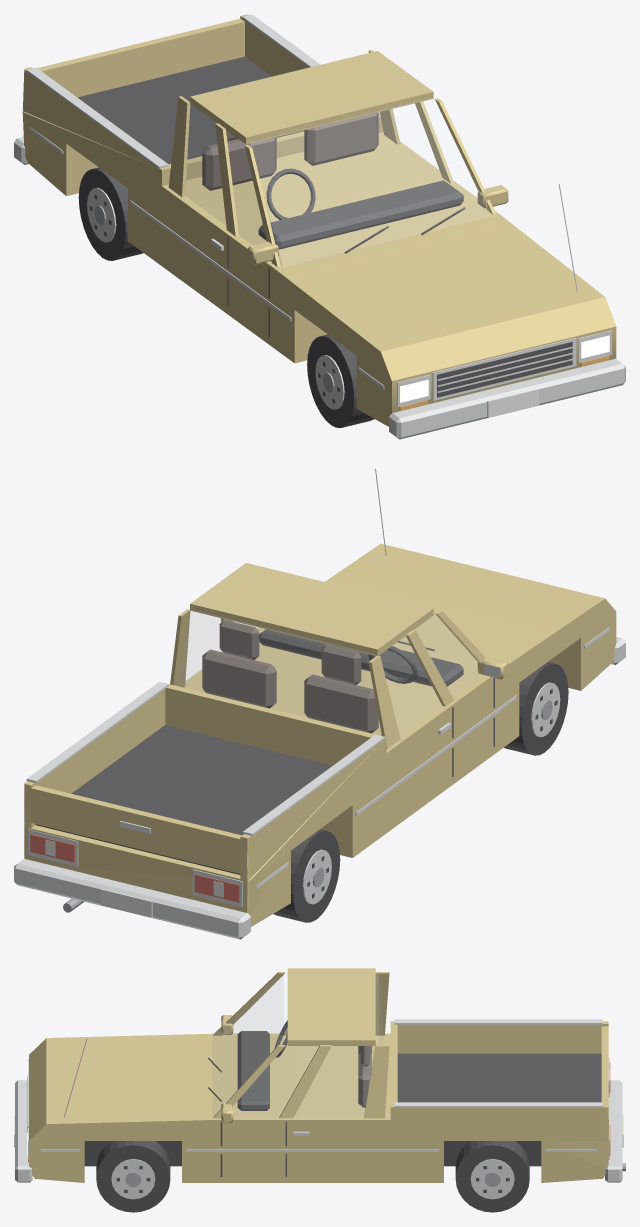
The model's file is car_pickup_y.glb.
The picture shows the model from 3 angles, top to bottom: view 1: azimuth 30°, elevation 25°; view 2: azimuth 150°, elevation 25°; view 3: azimuth 270°, elevation 25°; orthographic projection. The views are drawn at different scales.
Parts seen in each view (by area): view 1: car_pickup_y_car_y, car_pickup_y_glass, car_pickup_y_dark, car_pickup_y_chrome, car_pickup_y_rubber, car_pickup_y_vinyl, car_pickup_y_lamp_glass, car_pickup_y_paint_w; view 2: car_pickup_y_car_y, car_pickup_y_glass, car_pickup_y_dark, car_pickup_y_chrome, car_pickup_y_vinyl, car_pickup_y_rubber, car_pickup_y_neon_r, car_pickup_y_paint_w; view 3: car_pickup_y_car_y, car_pickup_y_dark, car_pickup_y_glass, car_pickup_y_chrome, car_pickup_y_rubber, car_pickup_y_vinyl, car_pickup_y_steel.
Part boxes in pixels (x1,y1,x2,y2): car_pickup_y_car_y: [22, 14, 616, 426]; car_pickup_y_glass: [186, 98, 490, 266]; car_pickup_y_dark: [77, 56, 572, 403]; car_pickup_y_chrome: [14, 14, 625, 439]; car_pickup_y_rubber: [78, 167, 374, 427]; car_pickup_y_vinyl: [202, 112, 378, 190]; car_pickup_y_lamp_glass: [400, 335, 609, 402]; car_pickup_y_paint_w: [487, 389, 539, 417]; car_pickup_y_car_y: [24, 543, 616, 926]; car_pickup_y_glass: [177, 610, 481, 734]; car_pickup_y_dark: [35, 629, 557, 898]; car_pickup_y_chrome: [14, 468, 625, 939]; car_pickup_y_vinyl: [202, 620, 378, 733]; car_pickup_y_rubber: [273, 662, 568, 922]; car_pickup_y_neon_r: [30, 834, 239, 902]; car_pickup_y_paint_w: [45, 839, 223, 917]; car_pickup_y_car_y: [29, 968, 608, 1182]; car_pickup_y_dark: [27, 1020, 601, 1192]; car_pickup_y_glass: [213, 974, 382, 1116]; car_pickup_y_chrome: [15, 1019, 622, 1199]; car_pickup_y_rubber: [84, 1141, 541, 1212]; car_pickup_y_vinyl: [358, 1046, 371, 1107]; car_pickup_y_steel: [125, 1163, 625, 1187].
Bounding box in the file's own units: 2 × 1.6 × 5.28.
